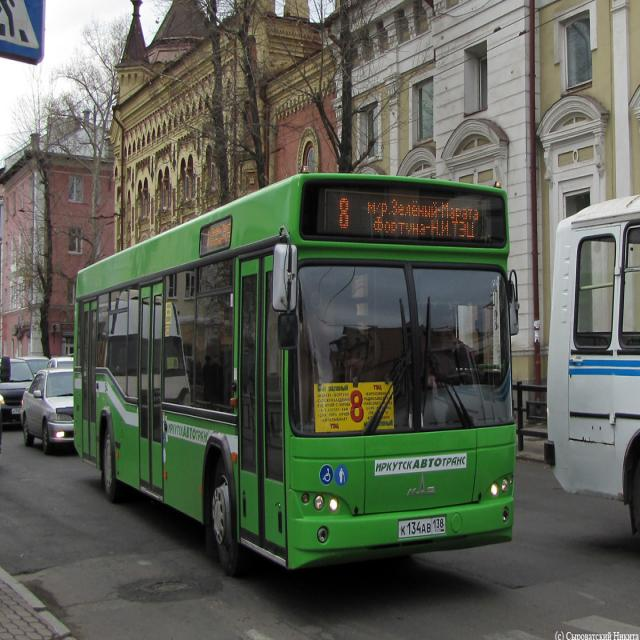number-of-bus: (351, 390, 366, 423)
